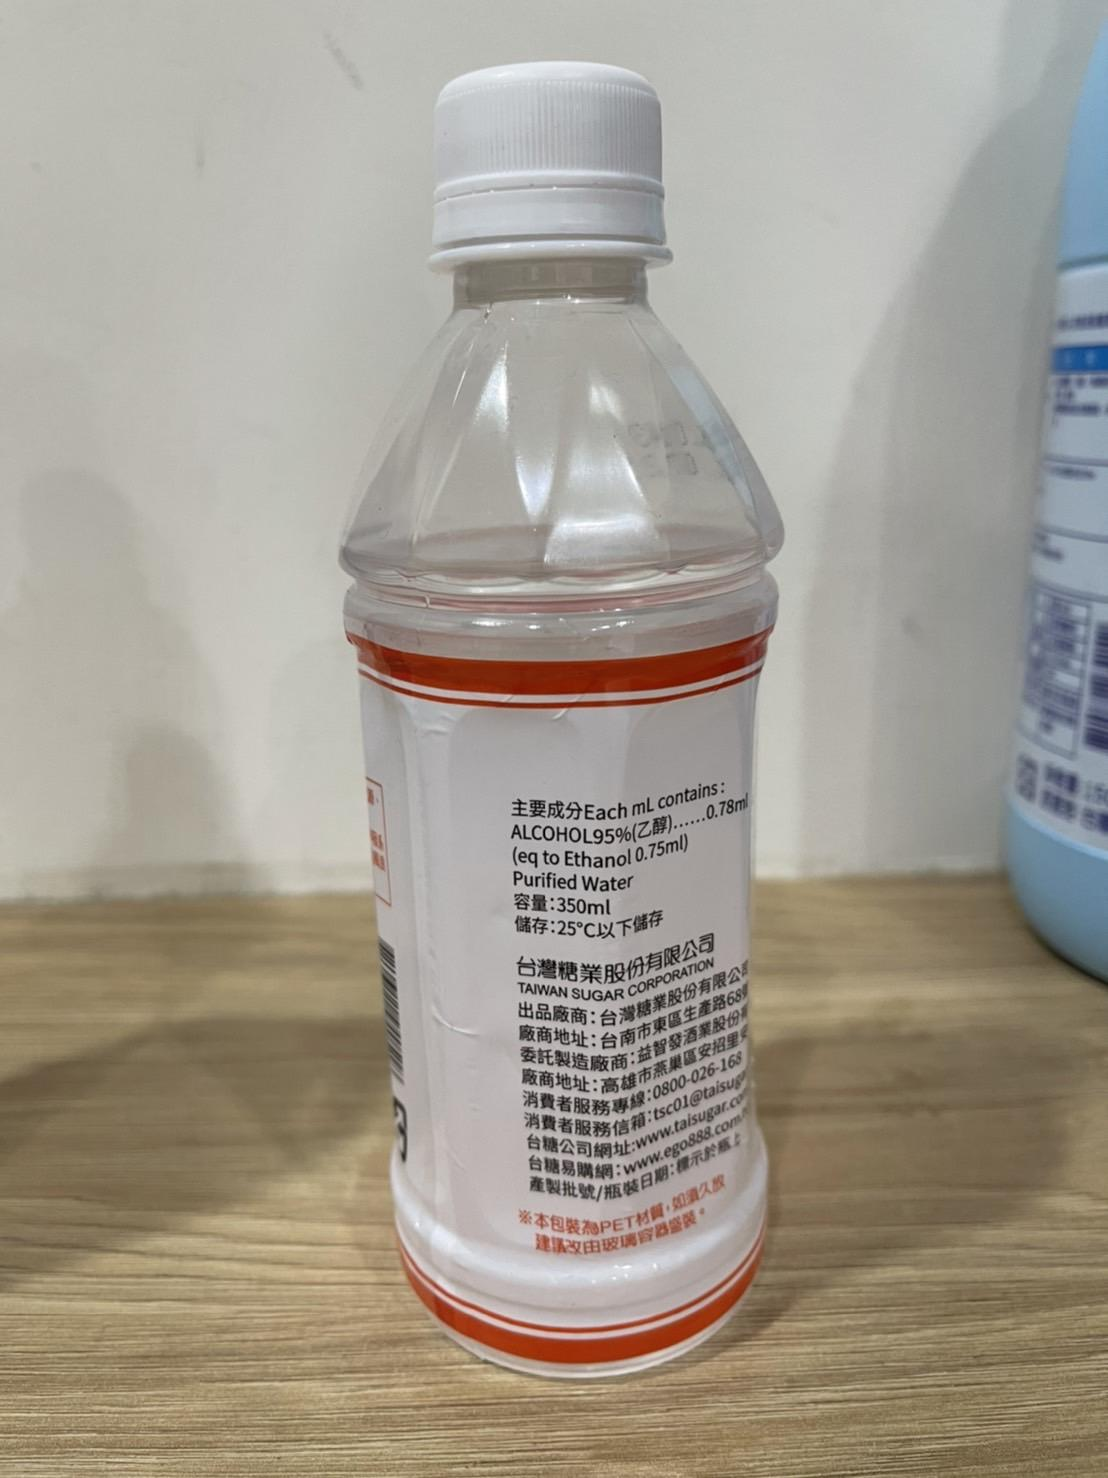bottle: (0, 47, 257, 1399)
